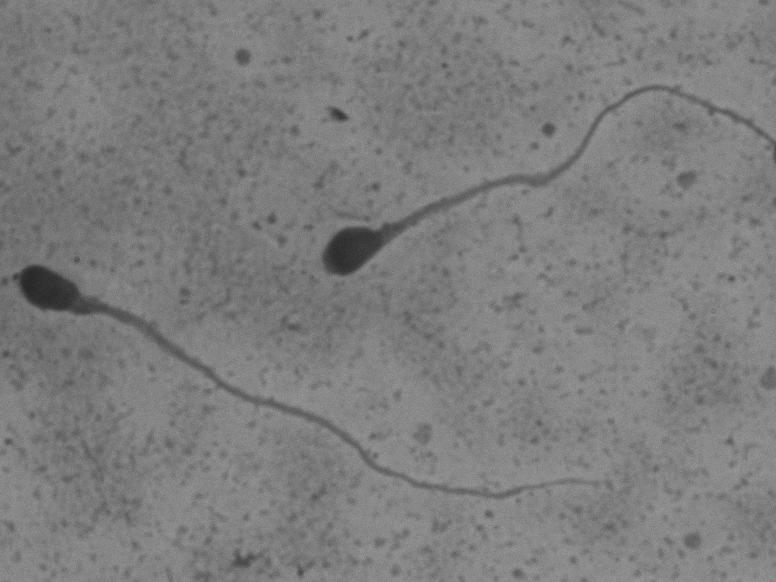Abnormal: (9, 244, 612, 514), (293, 46, 757, 311)
